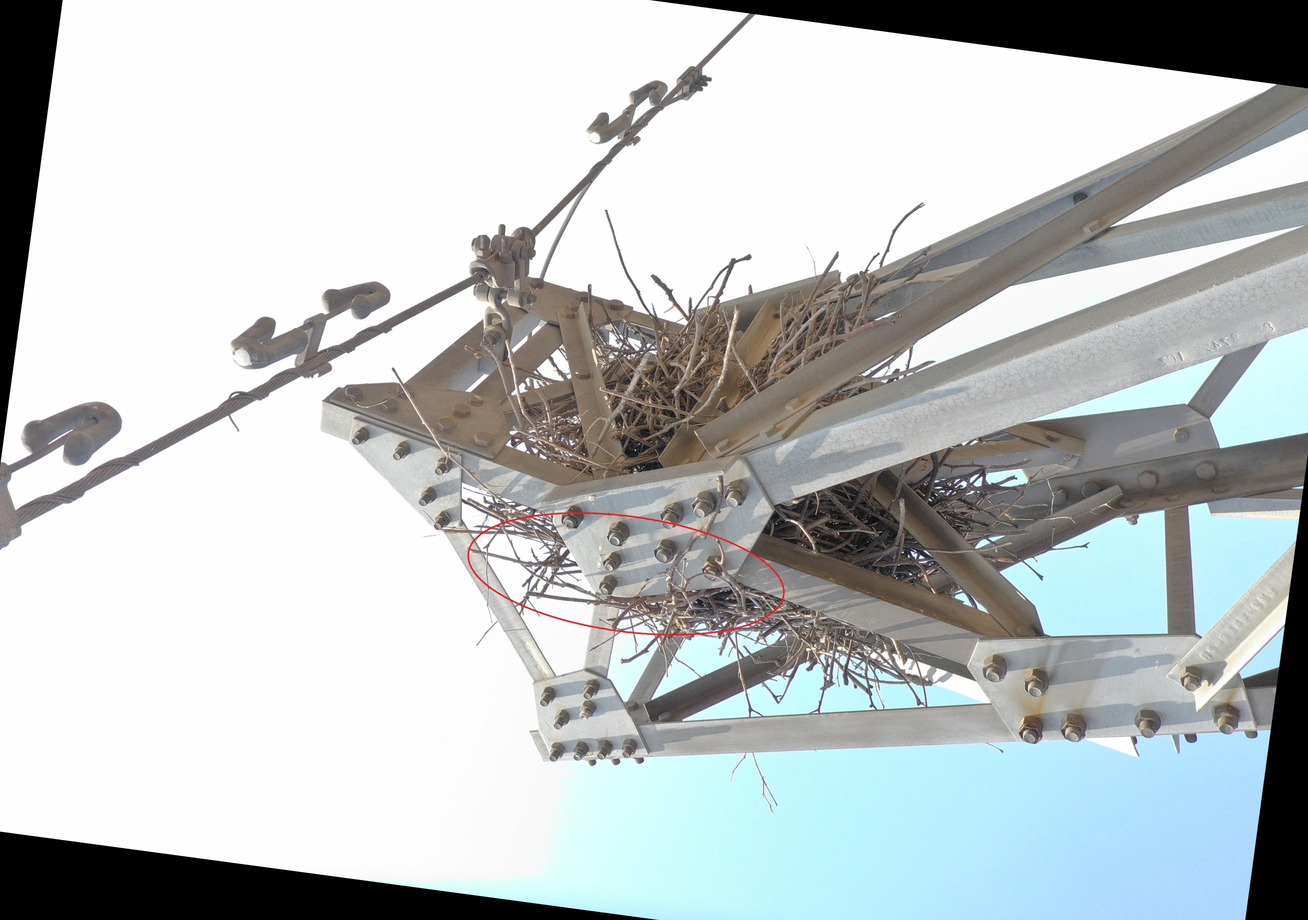damper: (0, 380, 134, 578), (220, 258, 401, 397), (573, 65, 680, 161)
